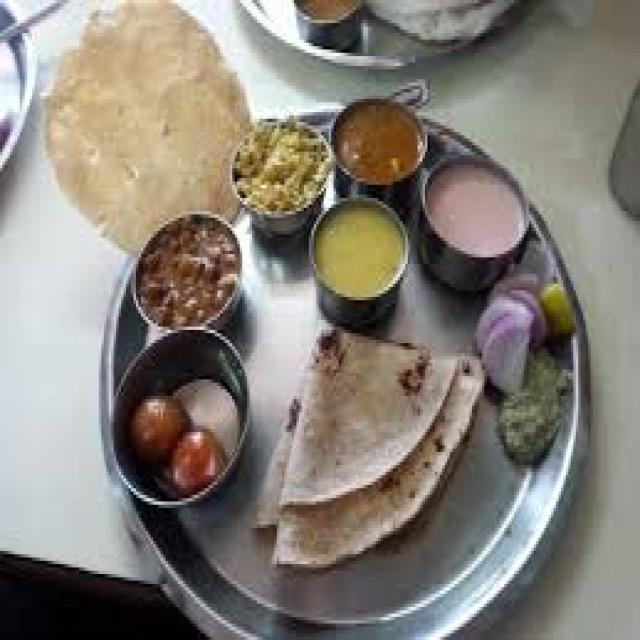DOSA: (269, 353, 482, 561)
